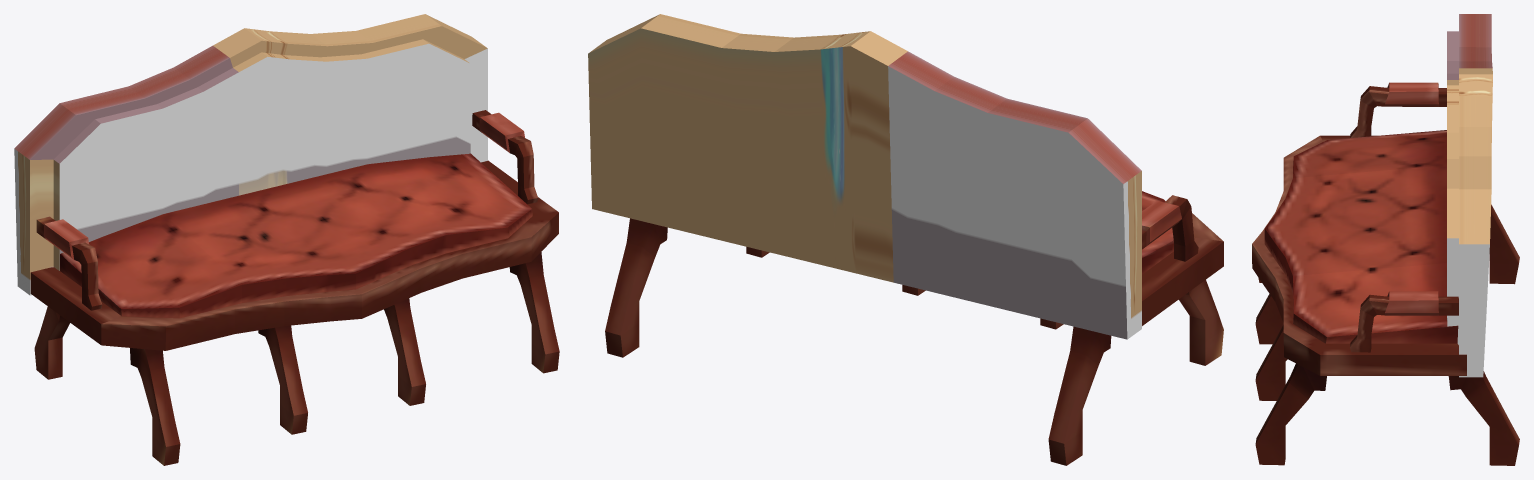
File: couch.fbx
The picture shows the model from 3 angles, left to right: view 1: azimuth 30°, elevation 25°; view 2: azimuth 150°, elevation 25°; view 3: azimuth 270°, elevation 25°; orthographic projection. The views are drawn at different scales.
Visible parts, largest first — view 1: sofa; view 2: sofa; view 3: sofa.
Boxes of the visible parts, x1=… form: sofa: x1=14, y1=14, x2=559, y2=465; sofa: x1=588, y1=14, x2=1223, y2=465; sofa: x1=1252, y1=14, x2=1519, y2=465.
Size of the model in its own units: 1123 by 709 by 578.
